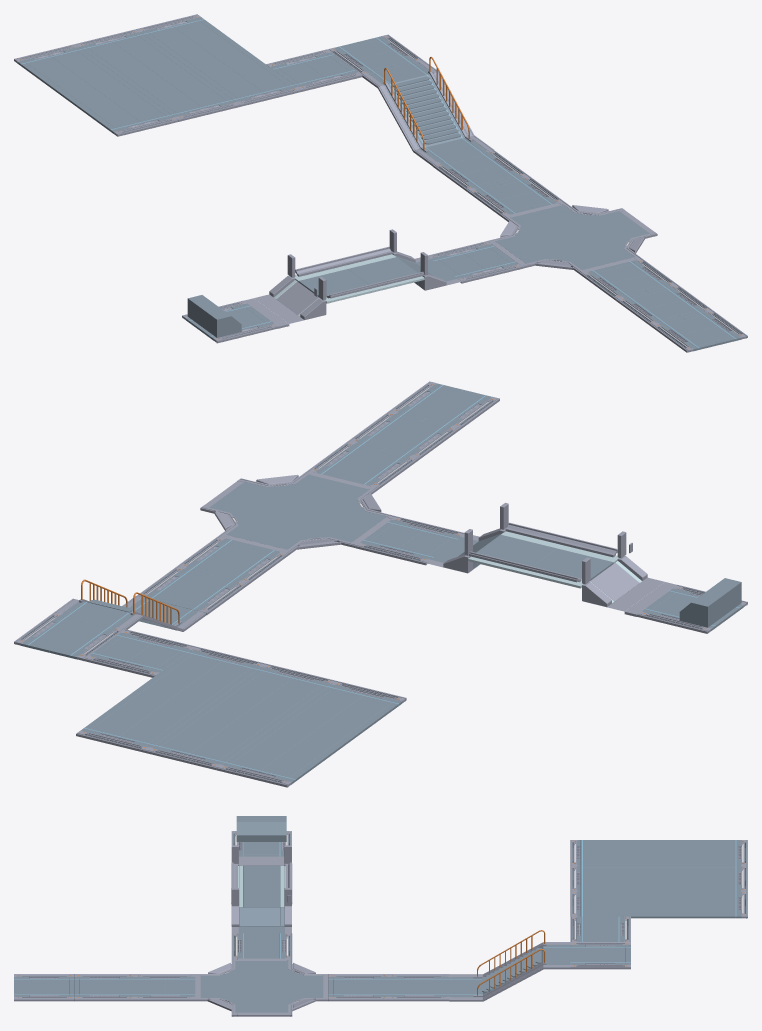
Rendered from MC_EX_Test_Floor_01.fbx.
3 renders of one model, top to bottom at view 1: azimuth 30°, elevation 25°; view 2: azimuth 150°, elevation 25°; view 3: azimuth 270°, elevation 25°, orthographic. The views are drawn at different scales.
Visible parts, largest first — view 1: Floor; view 2: Floor; view 3: Floor.
Part boxes in pixels (x1,y1,x2,y2): Floor: (14, 14, 747, 352); Floor: (14, 381, 747, 787); Floor: (14, 816, 747, 1016).
Size of the model in its own units: 3598 by 452 by 6069.
